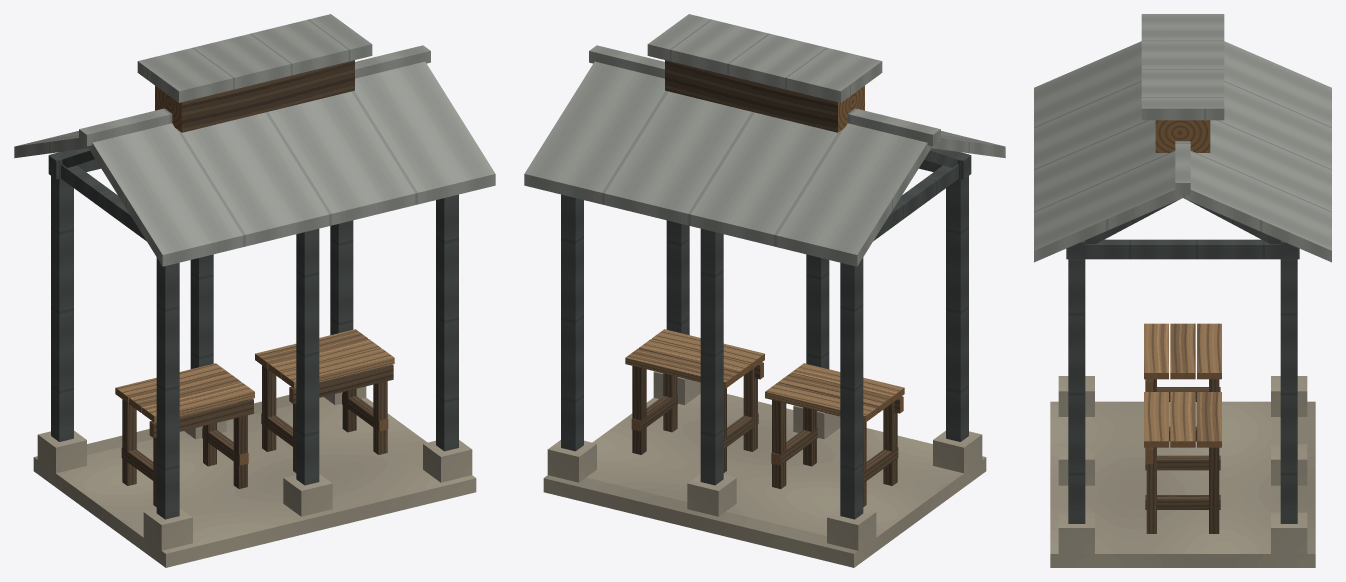
3 views of the same model, side by side, from view 1: azimuth 30°, elevation 25°; view 2: azimuth 150°, elevation 25°; view 3: azimuth 270°, elevation 25° (orthographic).
Visible parts, largest first — view 1: nuuk; view 2: nuuk; view 3: nuuk.
Part boxes in pixels (bbox=[...]): nuuk: bbox=[14, 14, 495, 567]; nuuk: bbox=[524, 14, 1005, 567]; nuuk: bbox=[1034, 14, 1331, 567].
Bounding box in the file's own units: 2.1 × 2.5 × 1.57.
Materials: 1 (1 with a texture image).
